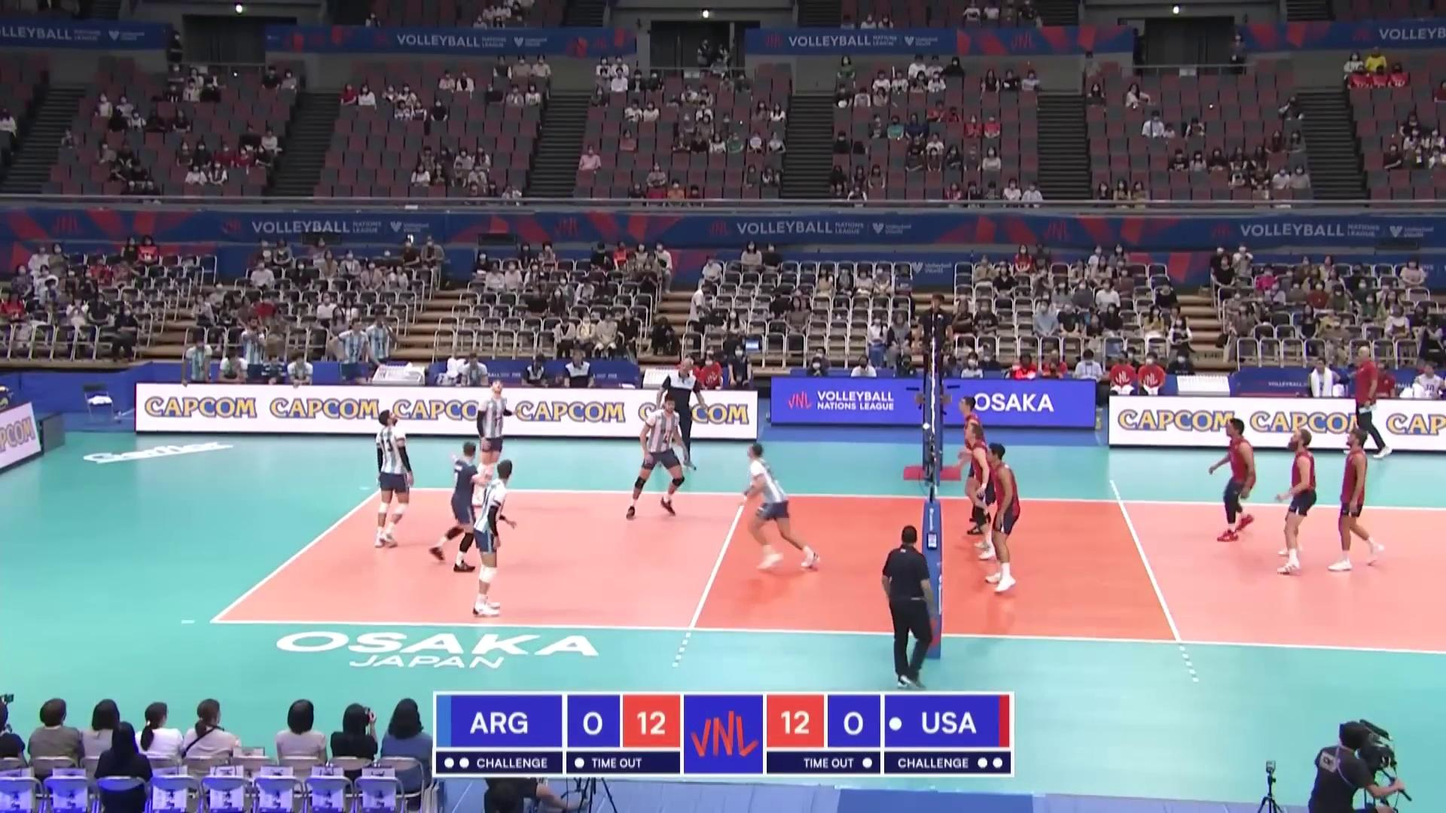player: (737, 444, 821, 571), (1329, 427, 1384, 574), (429, 443, 484, 572), (471, 461, 515, 618), (628, 398, 683, 520), (369, 407, 415, 550), (470, 378, 518, 506), (1208, 418, 1256, 543), (1275, 430, 1315, 576), (962, 425, 1004, 560), (986, 443, 1019, 594), (960, 397, 990, 537)
refree: (878, 527, 936, 689), (915, 294, 953, 403)
